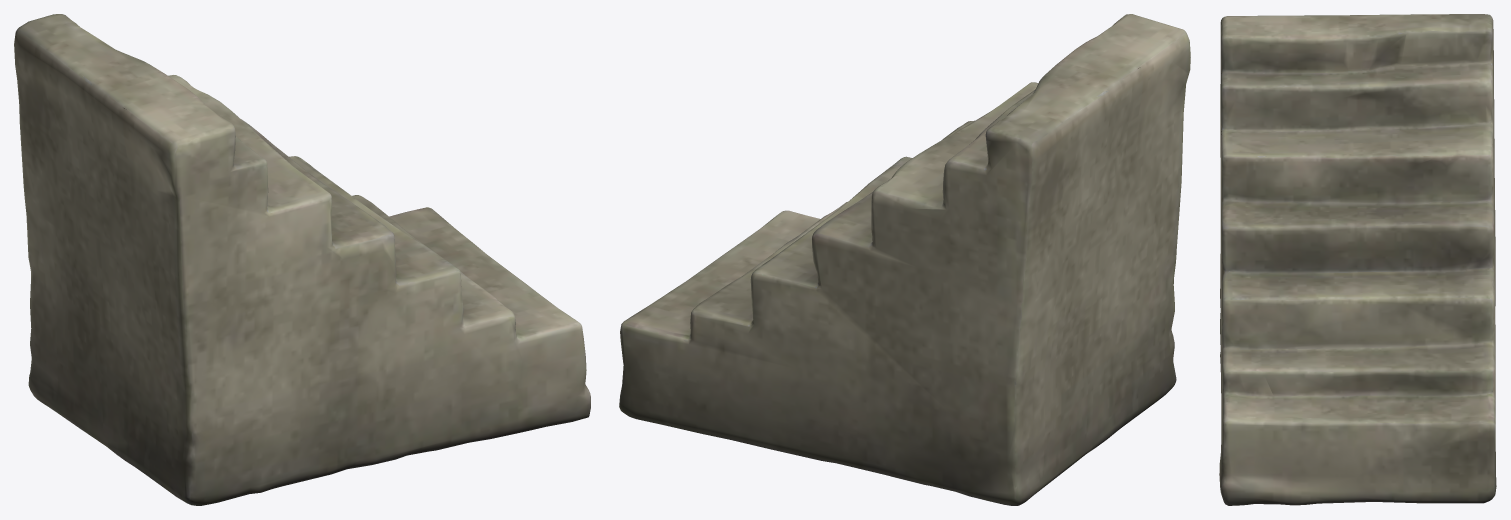
The model's file is chipped-limestone-straight-staircase-v001.glb.
3 views of the same model, side by side, from view 1: azimuth 30°, elevation 25°; view 2: azimuth 150°, elevation 25°; view 3: azimuth 270°, elevation 25° (orthographic). The views are drawn at different scales.
Parts seen in each view (by area): view 1: chipped-limestone-straight-staircase; view 2: chipped-limestone-straight-staircase; view 3: chipped-limestone-straight-staircase.
Part boxes in pixels (box(x1,y1,x2,y2)): chipped-limestone-straight-staircase: box(14, 14, 590, 505); chipped-limestone-straight-staircase: box(619, 14, 1190, 505); chipped-limestone-straight-staircase: box(1219, 14, 1496, 505).
Size of the model in its own units: 1.19 by 1.03 by 0.7952.
Materials: 1 (1 with a texture image).
